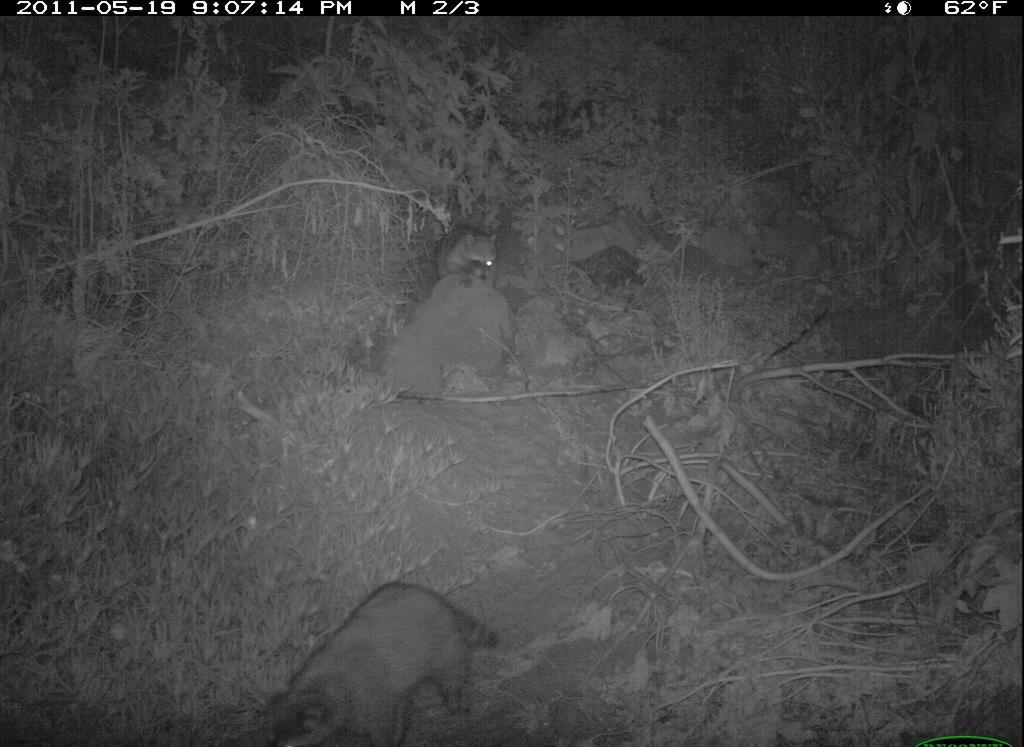raccoon: (249, 573, 507, 745), (428, 207, 528, 312)
